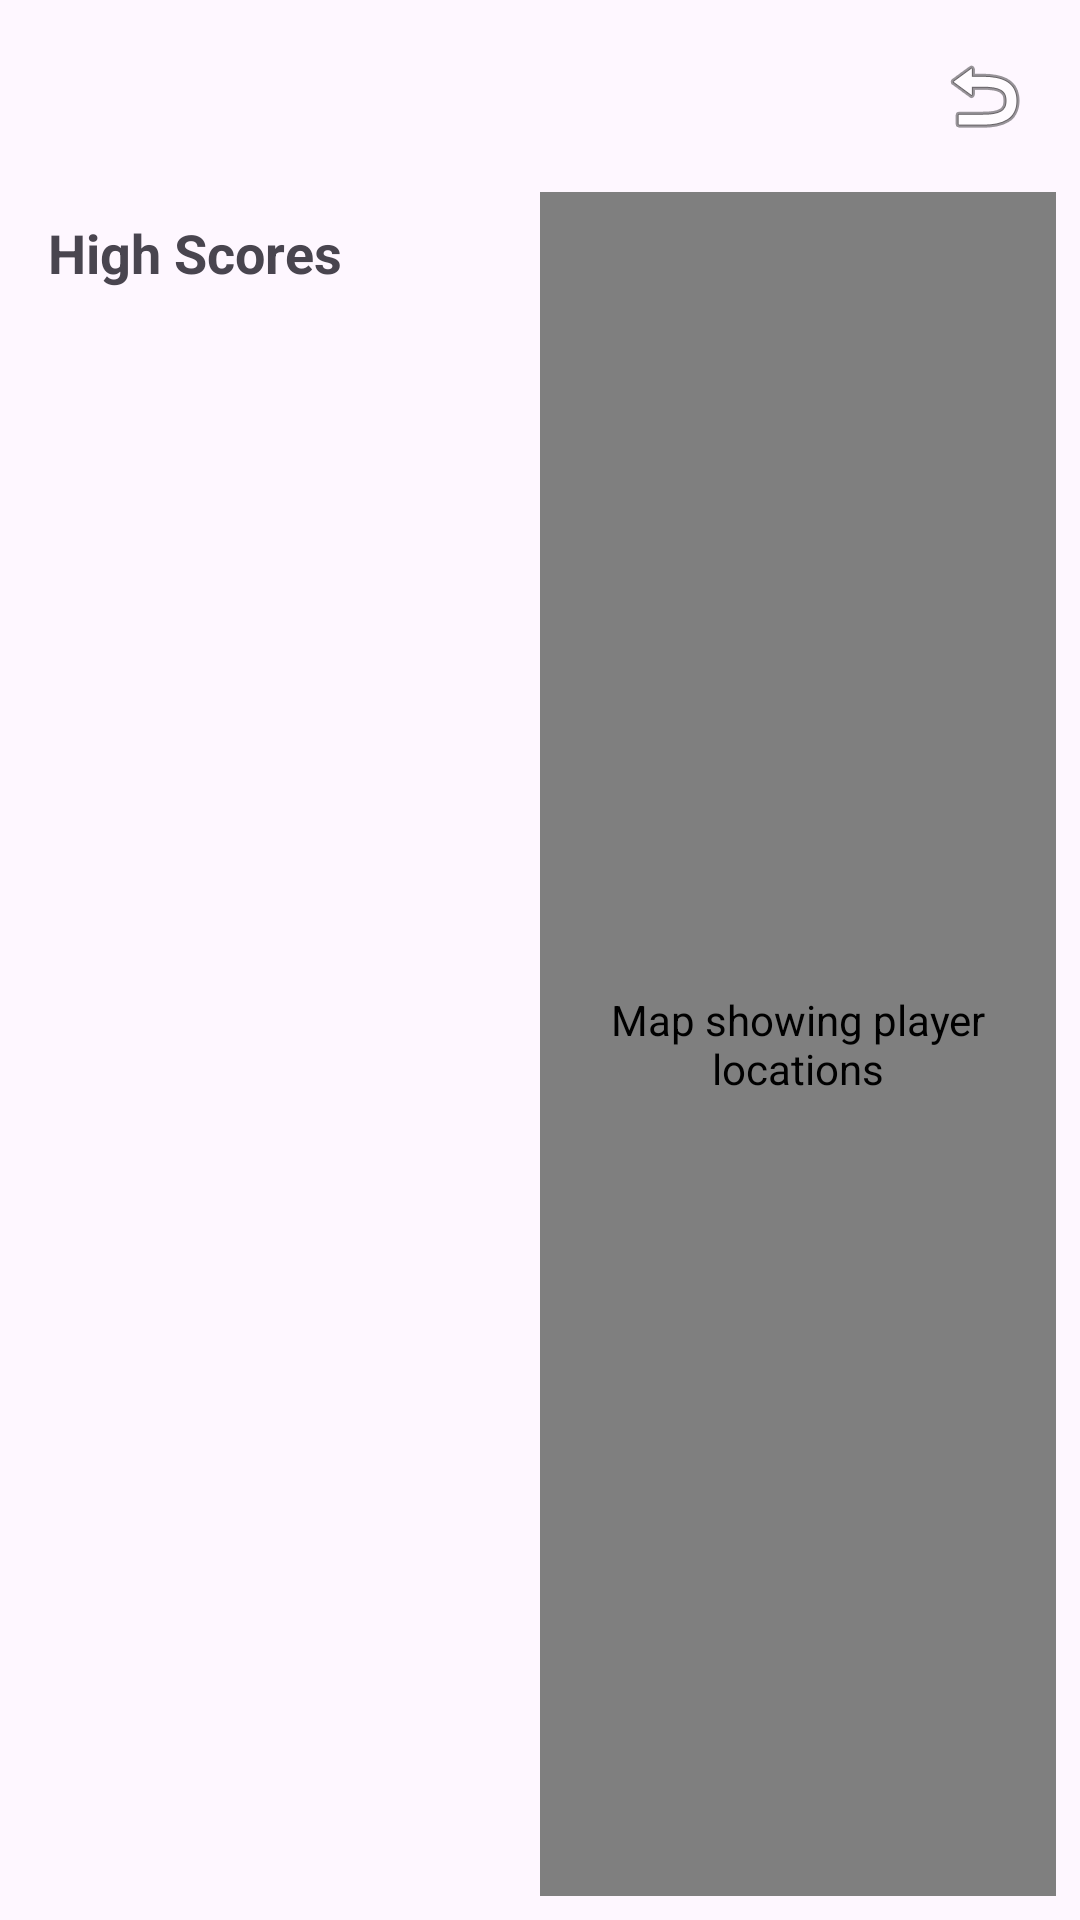

Icons on this 1080×1920 Android screen, each with its box as (x1, y1, x2, y2):
Back: (951, 65, 1020, 128)
